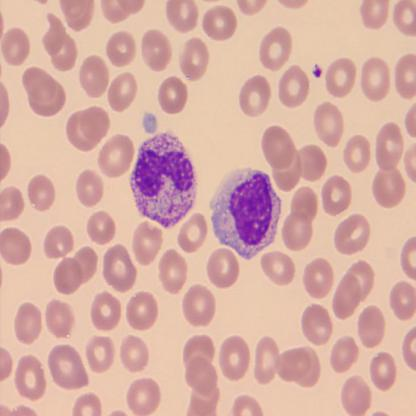Metamyelocyte: (210, 167, 283, 260)
